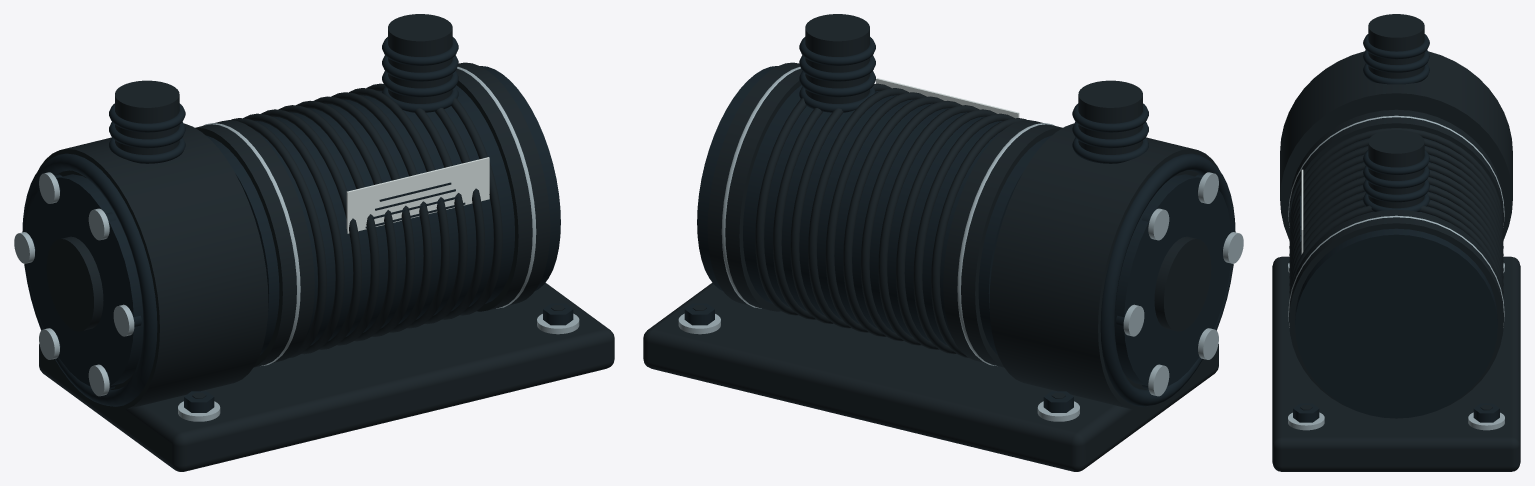
Rendered from pump-r385.glb.
The picture shows the model from 3 angles, left to right: view 1: azimuth 30°, elevation 25°; view 2: azimuth 150°, elevation 25°; view 3: azimuth 270°, elevation 25°; orthographic projection. The views are drawn at different scales.
Parts seen in each view (by area): view 1: matte-polymer, black-anodised, stainless-steel, silkscreen; view 2: matte-polymer, black-anodised, stainless-steel, silkscreen; view 3: matte-polymer, black-anodised, stainless-steel.
Boxes of the visible parts, left/top/right/bottom form: matte-polymer: left=38, top=14, right=614, bottom=471; black-anodised: left=22, top=37, right=573, bottom=412; stainless-steel: left=14, top=67, right=579, bottom=421; silkscreen: left=346, top=157, right=489, bottom=233; matte-polymer: left=643, top=14, right=1219, bottom=471; black-anodised: left=684, top=37, right=1235, bottom=412; stainless-steel: left=678, top=67, right=1243, bottom=421; silkscreen: left=876, top=78, right=1019, bottom=118; matte-polymer: left=1272, top=14, right=1520, bottom=471; black-anodised: left=1293, top=34, right=1499, bottom=422; stainless-steel: left=1288, top=115, right=1504, bottom=430.
Size of the model in its own units: 1.28 by 0.82 by 0.66.
